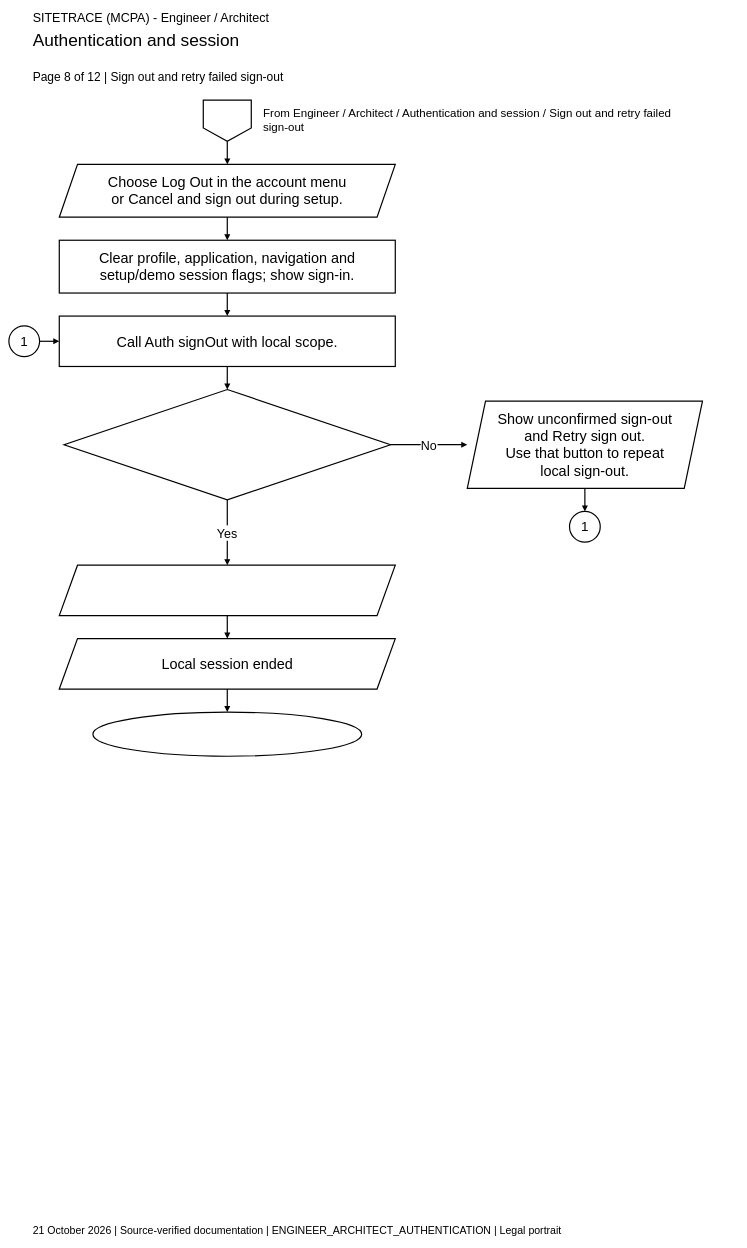
Some shapes in this 747 by 1248 pixel diagram are drawn without their labels. Each missing label, with the box of its shape:
Display signed-out confirmation.: (58, 564, 396, 616)
END: (92, 711, 362, 757)
GR: (202, 99, 252, 142)
Sign-out confirmed?: (63, 389, 391, 500)
